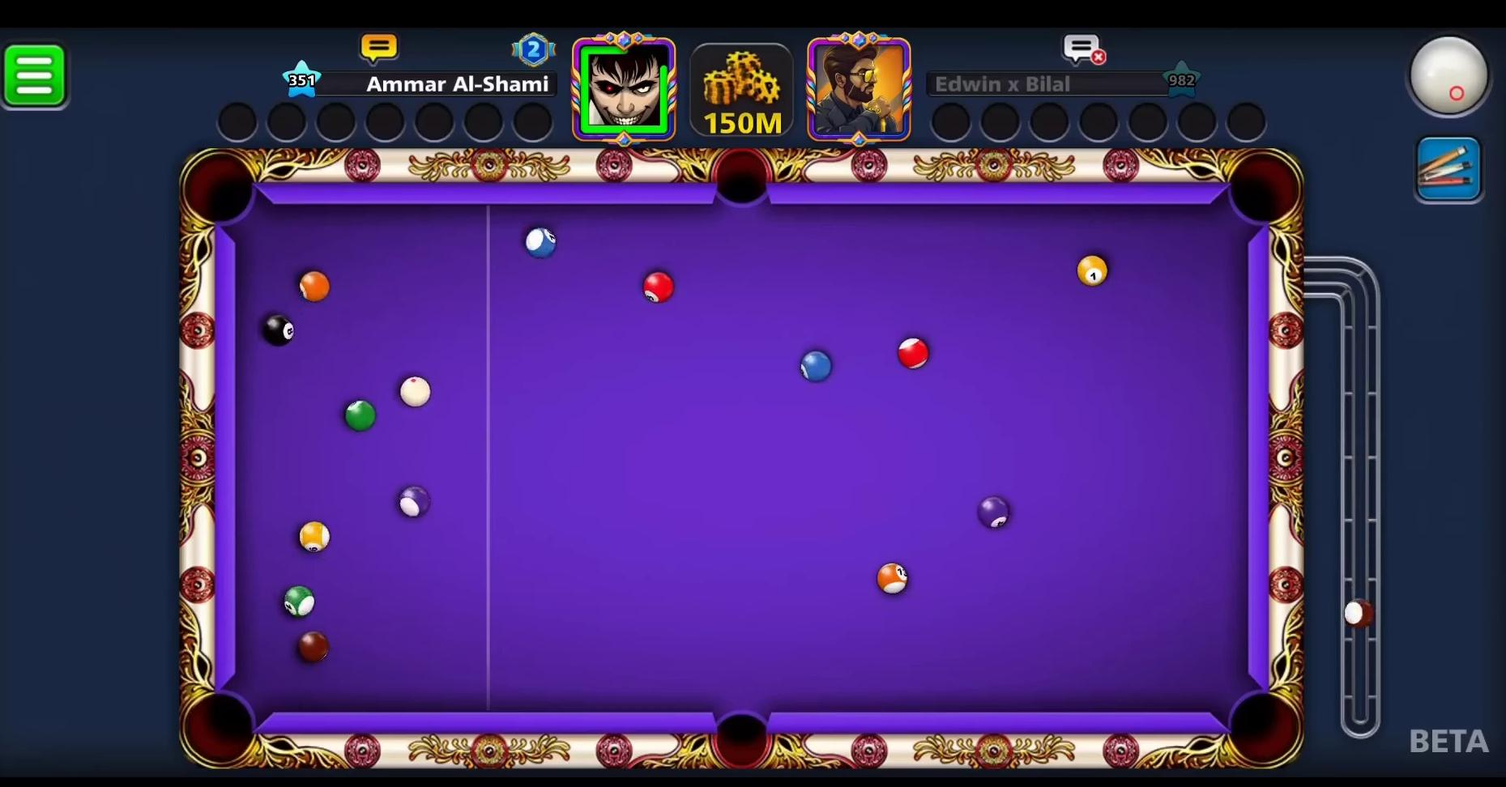Ball: (285, 625, 343, 669), (872, 551, 913, 602), (972, 489, 1017, 534), (517, 223, 564, 266), (893, 330, 936, 375), (392, 371, 439, 411), (391, 482, 439, 521), (1072, 252, 1116, 292), (291, 266, 337, 304), (793, 345, 835, 386), (275, 582, 321, 619), (635, 269, 680, 306), (292, 518, 335, 553), (339, 396, 379, 432), (258, 311, 298, 347)
Hole: (170, 677, 271, 775), (175, 139, 270, 237), (1217, 138, 1306, 236), (1216, 683, 1308, 776), (702, 695, 783, 777), (702, 143, 783, 223)
Play_Area: (237, 202, 1241, 714)
Spin: (1401, 27, 1504, 130)
